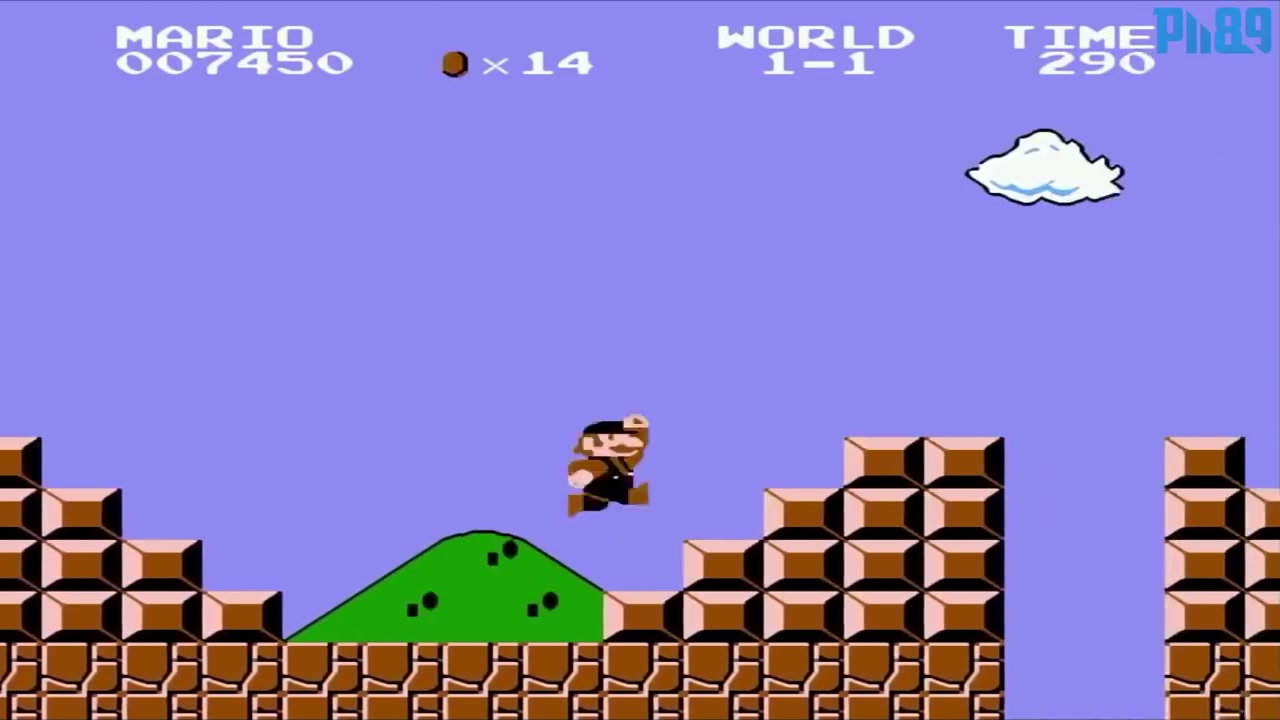mario: (553, 404, 655, 526)
